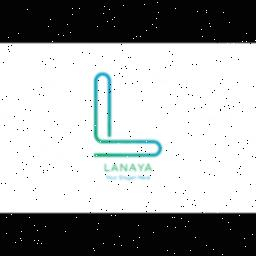a: (111, 164, 119, 174)
l: (86, 66, 166, 162), (102, 163, 110, 173)
n: (120, 162, 128, 172)
y: (138, 162, 144, 172)
